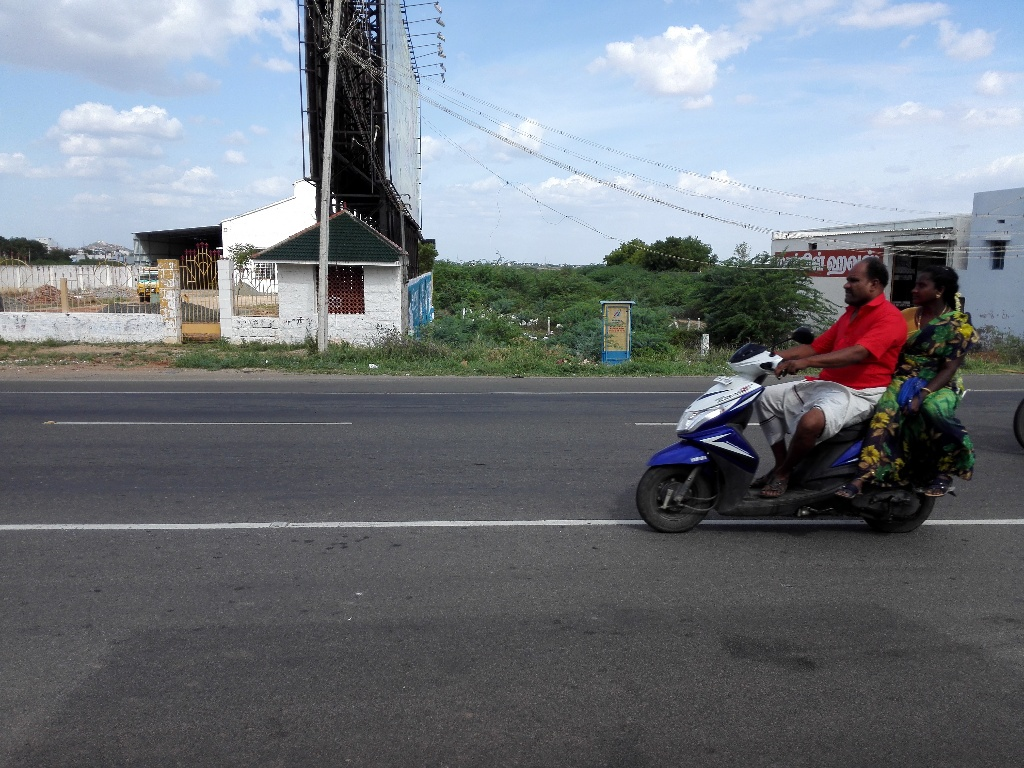biker: (598, 215, 1005, 563)
nohelmet: (908, 247, 972, 325), (837, 246, 901, 324)
